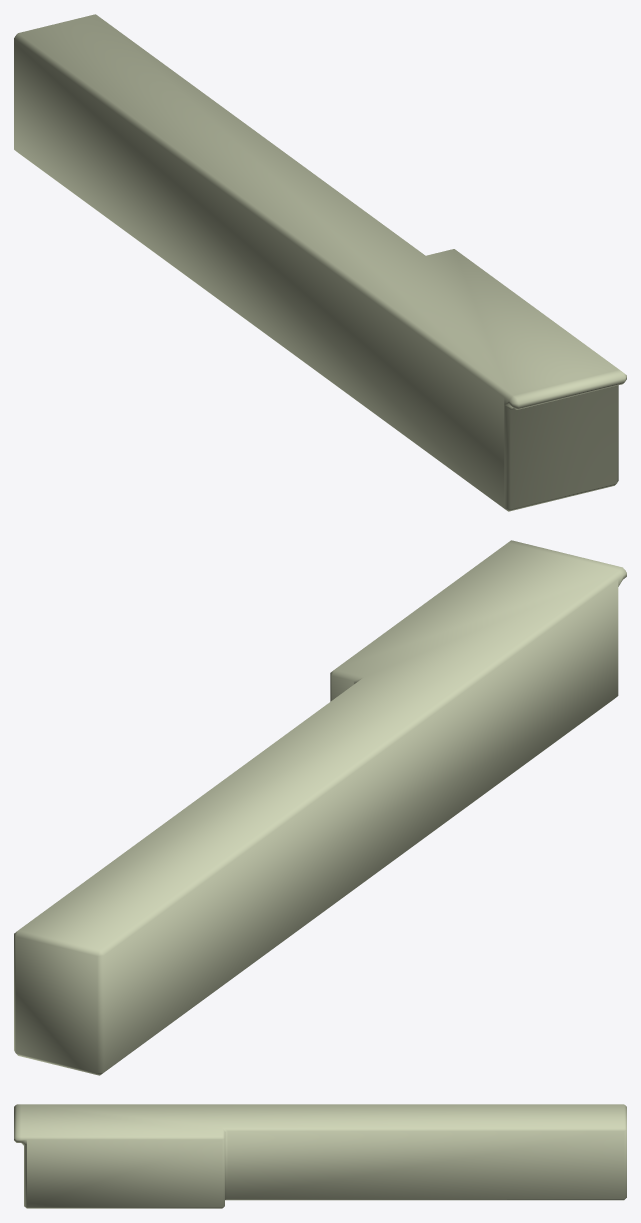
File: keyRightIndent.obj
The picture shows the model from 3 angles, top to bottom: view 1: azimuth 30°, elevation 25°; view 2: azimuth 150°, elevation 25°; view 3: azimuth 270°, elevation 25°; orthographic projection. The views are drawn at different scales.
Parts seen in each view (by area): view 1: keyRightIndent; view 2: keyRightIndent; view 3: keyRightIndent.
Boxes of the visible parts, bbox=[...] form: keyRightIndent: bbox=[14, 14, 626, 511]; keyRightIndent: bbox=[14, 540, 626, 1075]; keyRightIndent: bbox=[14, 1104, 626, 1208].
Bounding box in the file's own units: 2 × 2 × 15.25.
